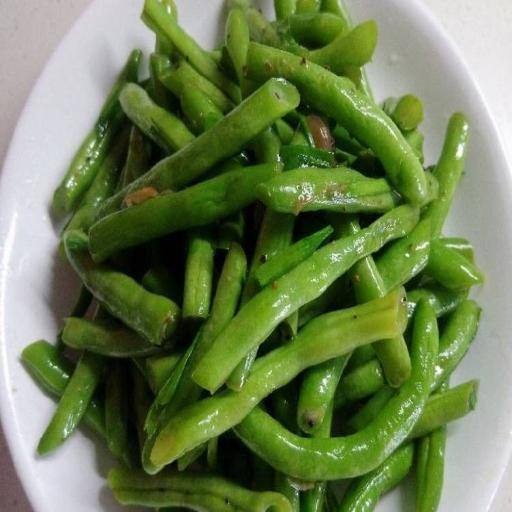buncis_rebus: (16, 0, 510, 512)
